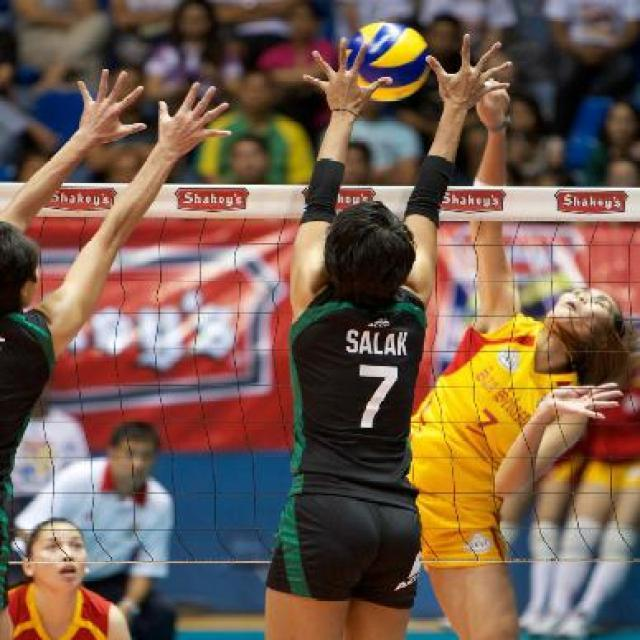volleyball: (346, 22, 430, 102)
